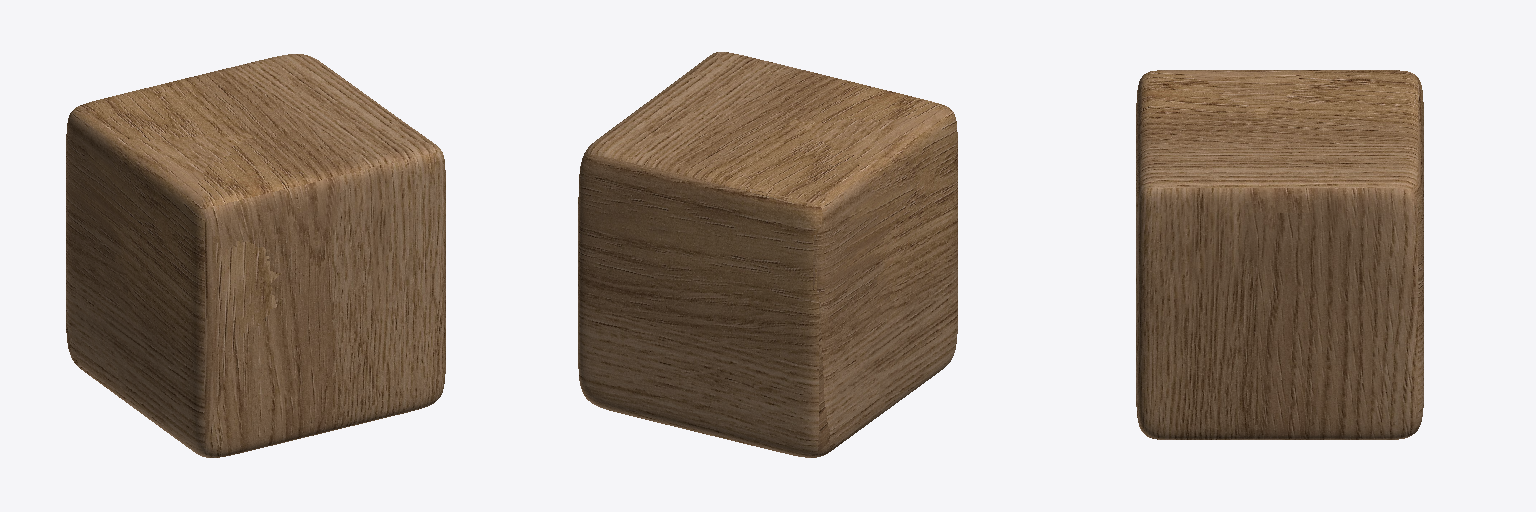
The picture shows the model from 3 angles: view 1: azimuth 30°, elevation 25°; view 2: azimuth 150°, elevation 25°; view 3: azimuth 270°, elevation 25°; orthographic projection.
Visible parts, largest first — view 1: material; view 2: material; view 3: material.
Boxes of the visible parts, x1=… form: material: x1=66, y1=54, x2=445, y2=457; material: x1=578, y1=52, x2=957, y2=457; material: x1=1136, y1=70, x2=1423, y2=439.
Bounding box in the file's own units: 0.7362 × 0.7365 × 0.7362.
Materials: 1 (1 with a texture image).